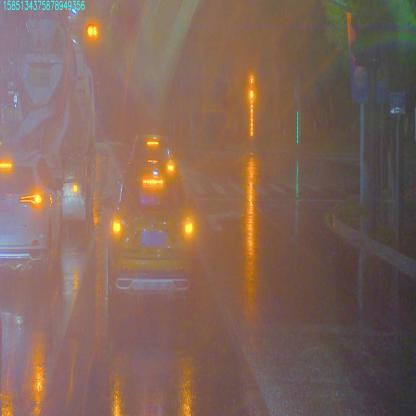traffic-light: (88, 23, 100, 40)
